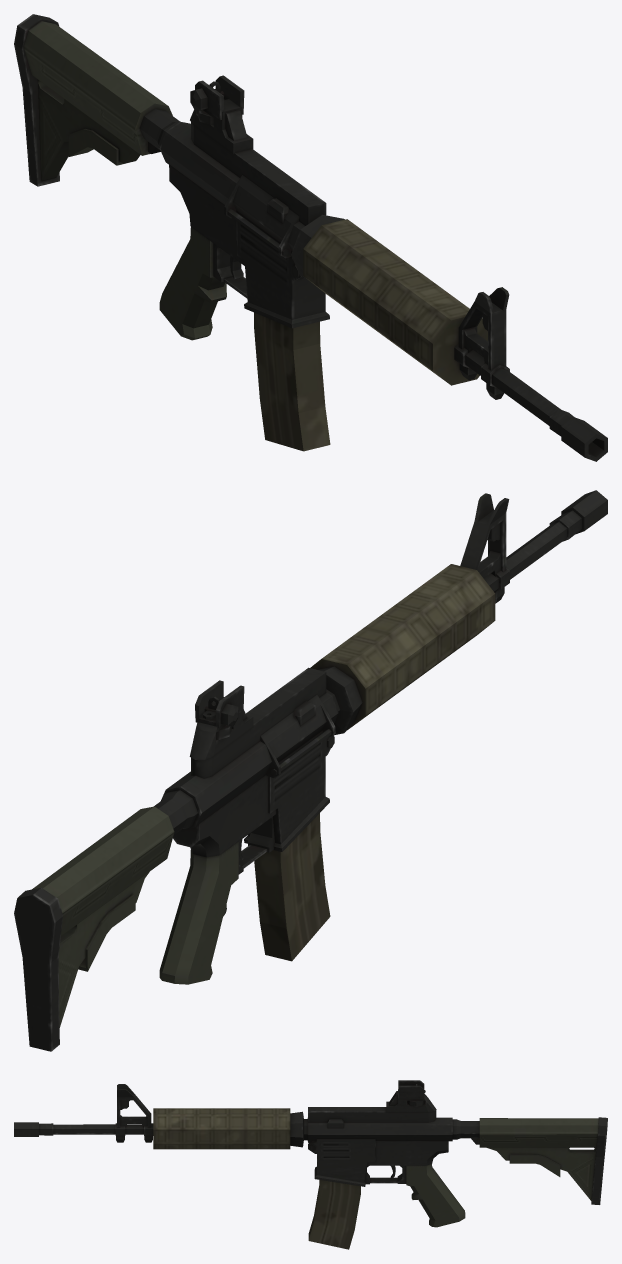
File: Gun.fbx
The picture shows the model from 3 angles, top to bottom: view 1: azimuth 30°, elevation 25°; view 2: azimuth 150°, elevation 25°; view 3: azimuth 270°, elevation 25°; orthographic projection. The views are drawn at different scales.
Parts seen in each view (by area): view 1: Gun; view 2: Gun; view 3: Gun.
Part boxes in pixels (left/top/right/bottom): Gun: left=14, top=14, right=607, bottom=461; Gun: left=14, top=490, right=607, bottom=1051; Gun: left=14, top=1080, right=607, bottom=1249.
Size of the model in its own units: 6.24 by 29.52 by 97.57.
